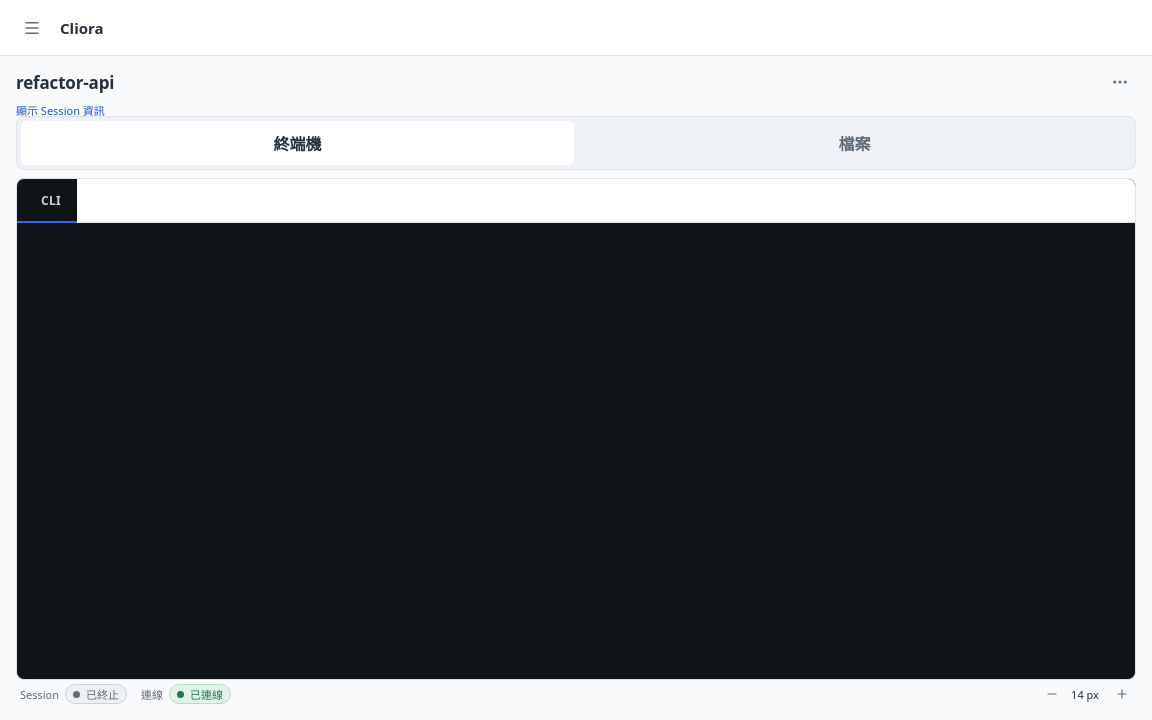
Scenario: SessionWorkspaceView — 手機上的檔案（#76） › 已結束的 session：手機檔案分頁說明原因，不發任何瀏覽請求
Click the tab "檔案": (854, 143) [578,121,1131,165]
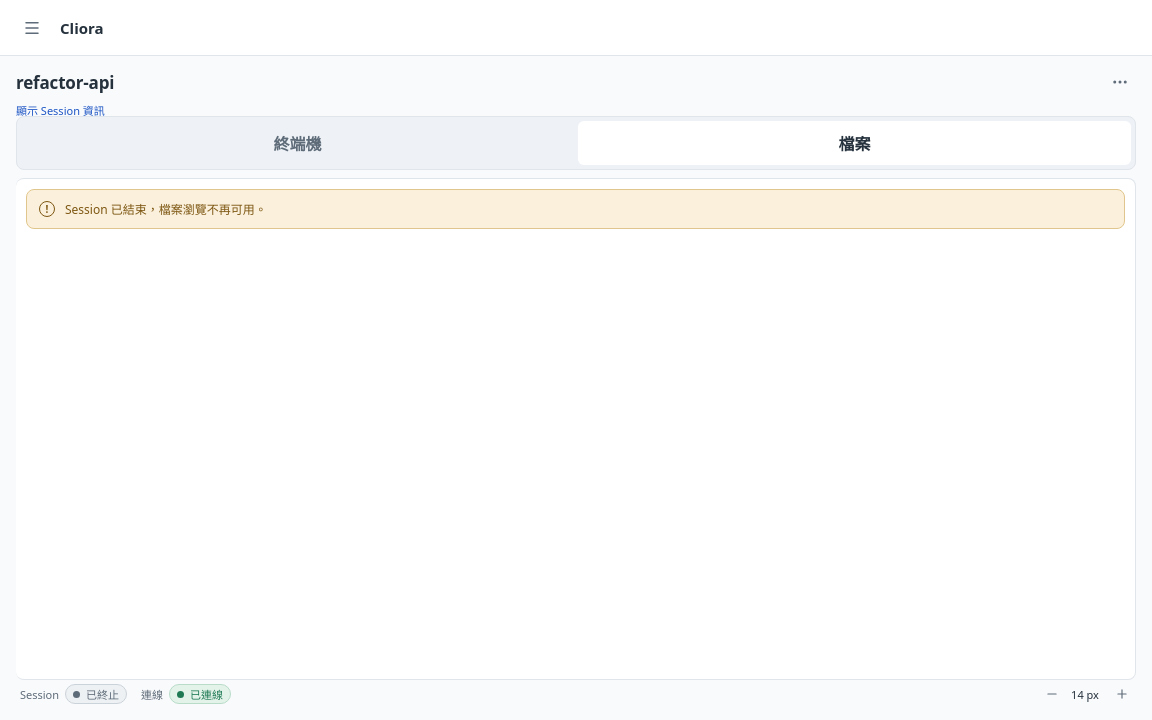
expect the element with id "file-panel" shows "Session 已結束": met, box [65,201,267,218]
